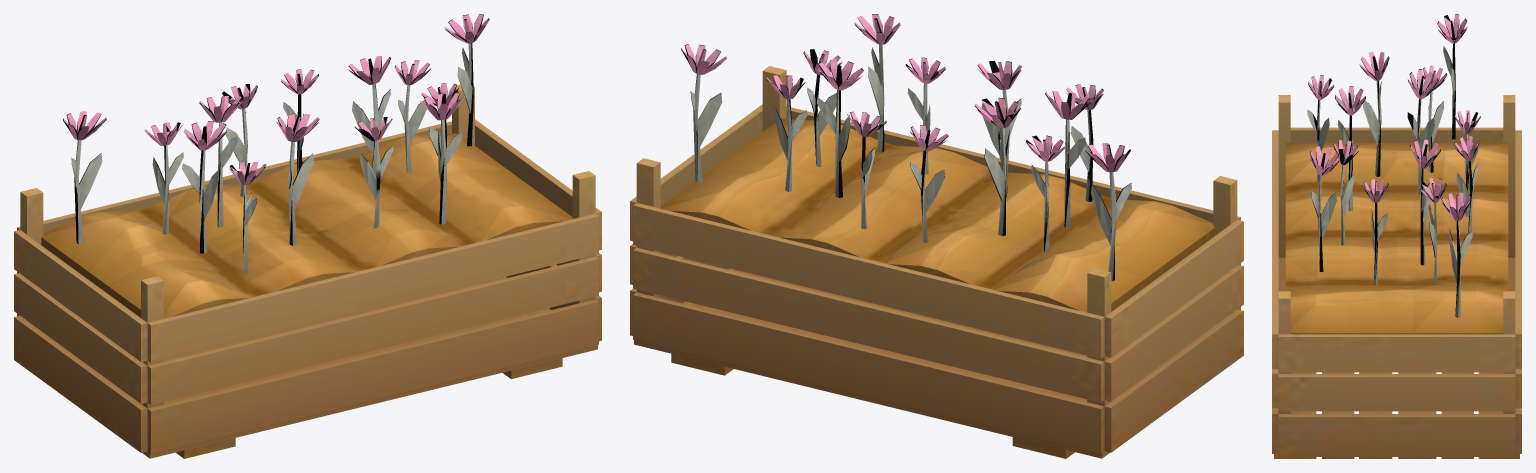
Rendered from flowerbed_crate_low.glb.
The picture shows the model from 3 angles, left to right: view 1: azimuth 30°, elevation 25°; view 2: azimuth 150°, elevation 25°; view 3: azimuth 270°, elevation 25°; orthographic projection. The views are drawn at different scales.
Parts seen in each view (by area): view 1: flowerbed_crate_low; view 2: flowerbed_crate_low; view 3: flowerbed_crate_low.
Part boxes in pixels (x1,y1,x2,y2): flowerbed_crate_low: (14,14,601,458); flowerbed_crate_low: (630,14,1243,458); flowerbed_crate_low: (1272,14,1521,458).
Bounding box in the file's own units: 1.21 × 0.6915 × 0.61.
1 material, 1 textured.
